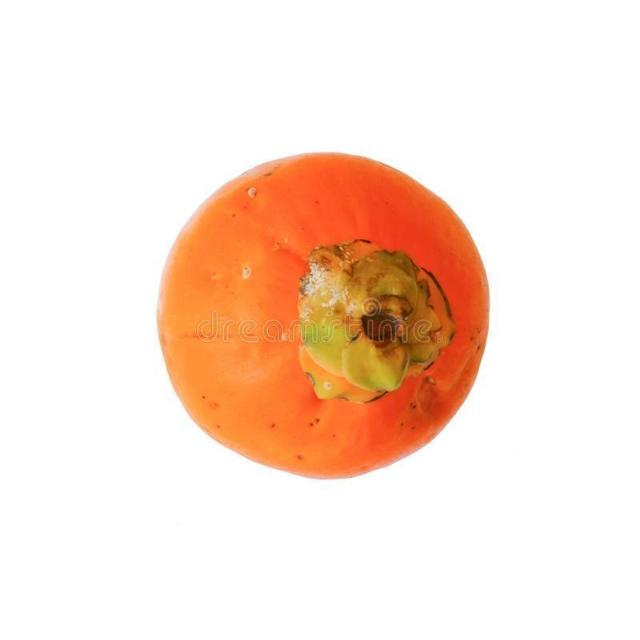good: (154, 153, 492, 481)
